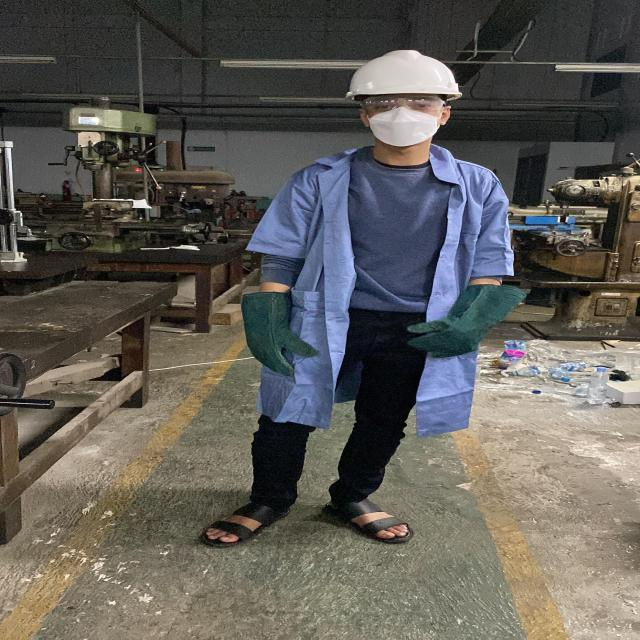glasses: (354, 92, 454, 111)
